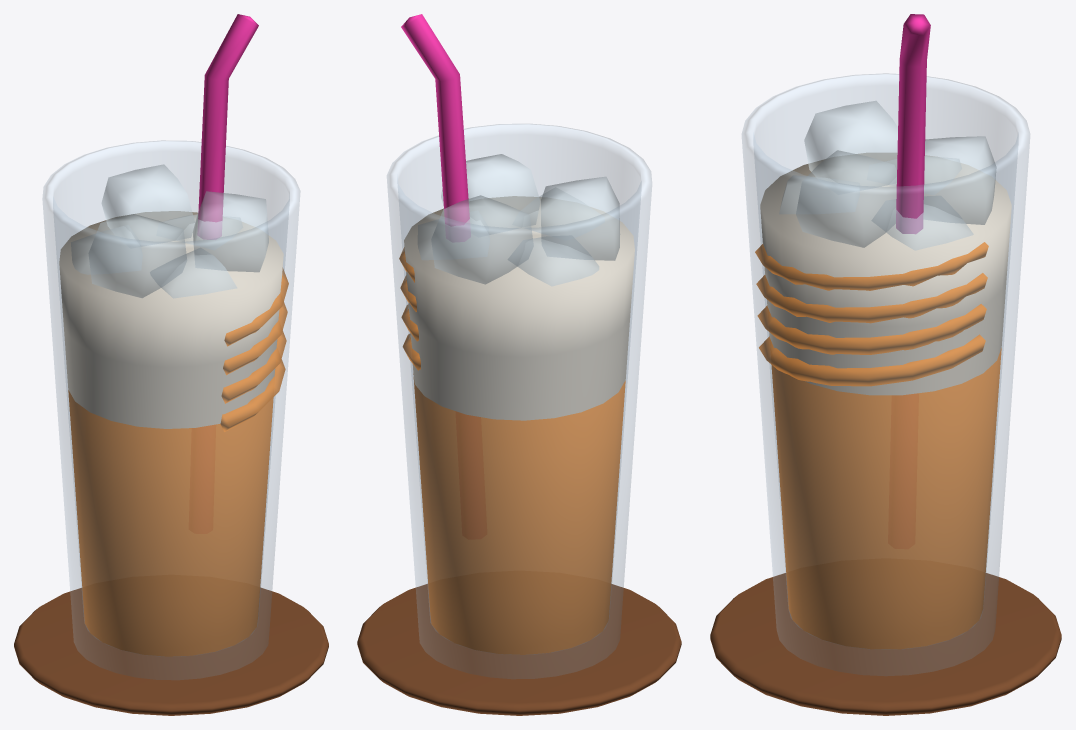
3 views of the same model, side by side, from view 1: azimuth 30°, elevation 25°; view 2: azimuth 150°, elevation 25°; view 3: azimuth 270°, elevation 25° (orthographic). The views are drawn at different scales.
Parts seen in each view (by area): view 1: glass, tea, milk, ice (×6), coaster, straw, swirl (×4); view 2: glass, tea, milk, ice (×6), coaster, straw; view 3: glass, tea, milk, coaster, ice (×6), swirl (×4), straw.
Part boxes in pixels (left/top/right/bottom): glass: left=42, top=140, right=300, bottom=679; tea: left=68, top=390, right=273, bottom=656; milk: left=59, top=211, right=283, bottom=428; ice (×6): left=71, top=164, right=268, bottom=298; coaster: left=14, top=587, right=328, bottom=715; straw: left=198, top=14, right=258, bottom=239; swirl (×4): left=220, top=268, right=288, bottom=431; glass: left=387, top=124, right=651, bottom=678; tea: left=413, top=374, right=625, bottom=654; milk: left=404, top=196, right=634, bottom=420; ice (×6): left=418, top=154, right=619, bottom=286; coaster: left=357, top=584, right=681, bottom=715; straw: left=401, top=14, right=469, bottom=226; glass: left=742, top=73, right=1029, bottom=675; tea: left=771, top=348, right=1001, bottom=649; milk: left=760, top=152, right=1011, bottom=395; coaster: left=710, top=573, right=1061, bottom=715; ice (×6): left=779, top=101, right=996, bottom=250; swirl (×4): left=755, top=242, right=988, bottom=386; straw: left=896, top=14, right=930, bottom=233.
Size of the model in its own units: 0.09 by 0.1909 by 0.09.
